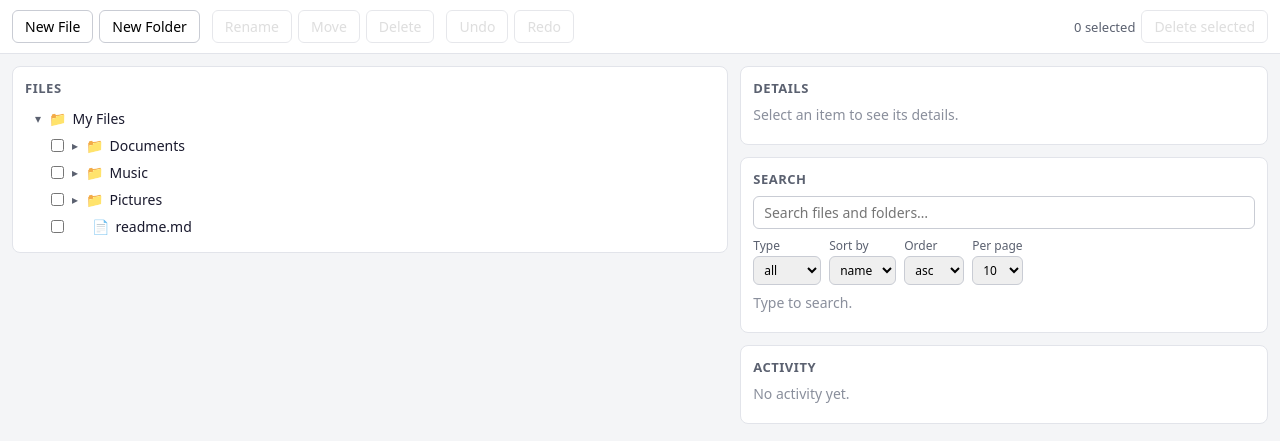
Test: rendering › expands a folder and shows its children
The image size is (1280, 441).
Click the button named "Expand Documents" at [75, 146], box [70,137,80,154]
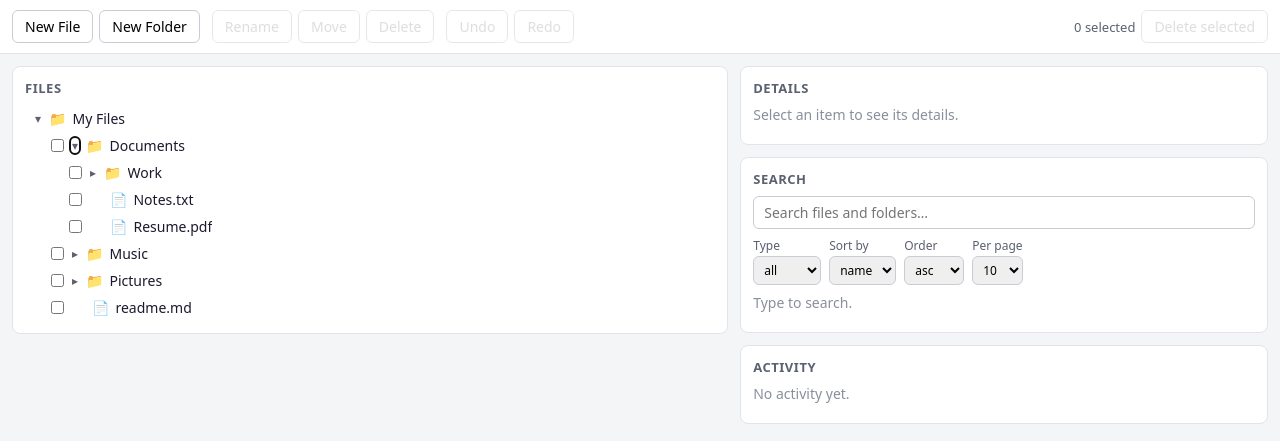
Result: the text "Resume.pdf" is shown at [134,217,212,236]
Result: the text "Notes.txt" is shown at [134,190,194,209]
